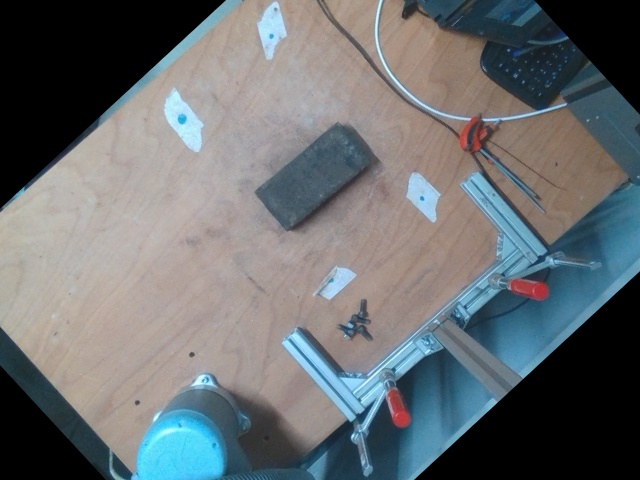brick: (255, 121, 371, 230)
